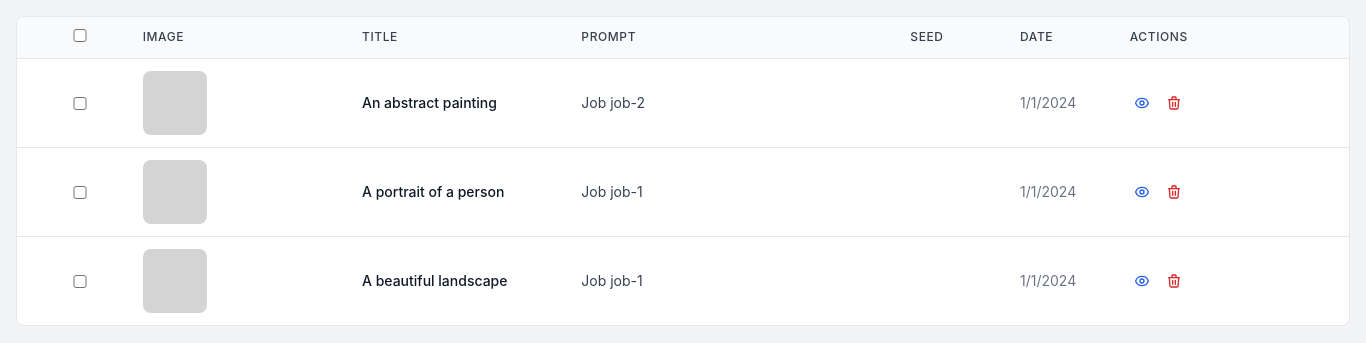
Test: ImageGallery › handles select all functionality
Note: Find the header checkbox in list view
Click the checkbox next to "Image" at (80, 36), box [33,29,127,42]
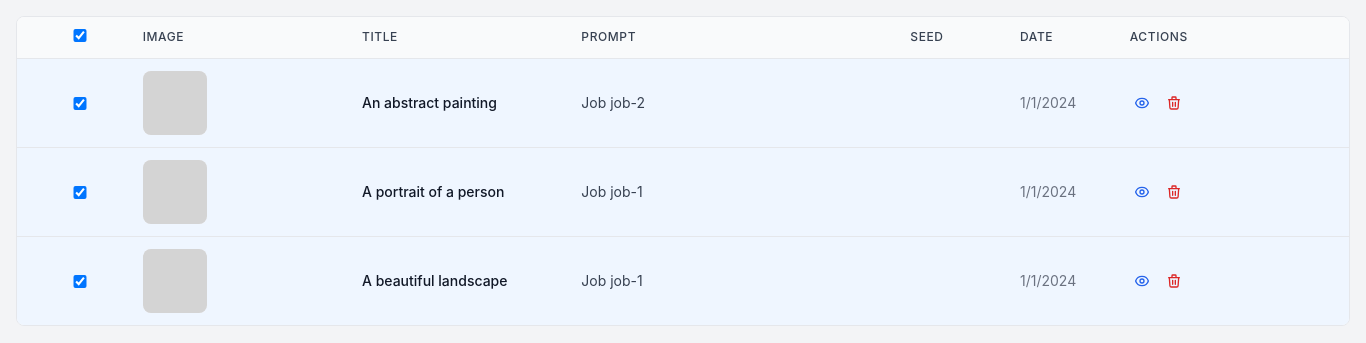
Expected: the checkbox in the row of "An abstract painting" is checked, [33,96,127,110]
Expected: the checkbox in the row of "A portrait of a person" is checked, [33,186,127,198]
Expected: the checkbox in the row of "A beautiful landscape" is checked, [33,274,127,288]
